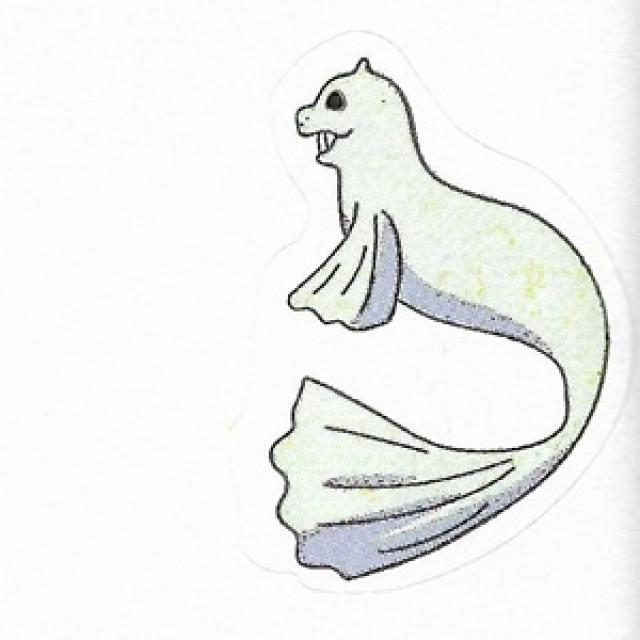Dewgong: (294, 60, 608, 584)
